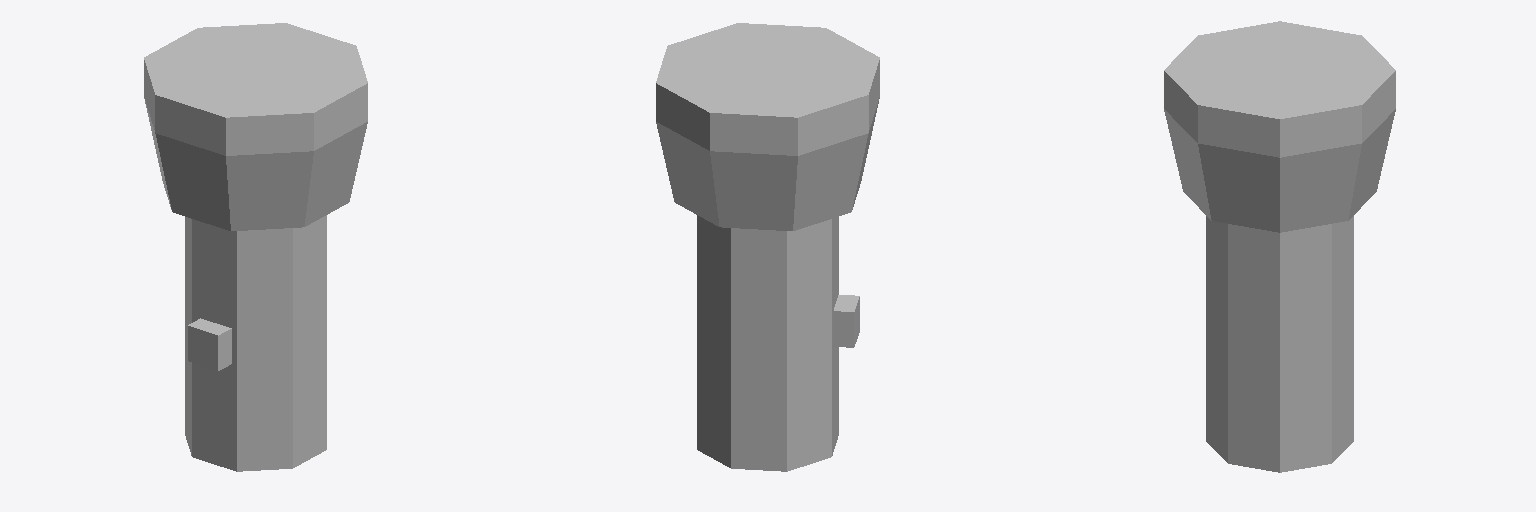
File: flashlight.obj
3 renders of one model, left to right at view 1: azimuth 30°, elevation 25°; view 2: azimuth 150°, elevation 25°; view 3: azimuth 270°, elevation 25°, orthographic.
Parts seen in each view (by area): view 1: Cylinder.001, Cylinder, Cube; view 2: Cylinder.001, Cylinder, Cube; view 3: Cylinder.001, Cylinder.
Part boxes in pixels (x1,y1,x2,y2): Cylinder.001: (144, 23, 367, 230); Cylinder: (185, 215, 326, 471); Cube: (188, 318, 231, 370); Cylinder.001: (656, 23, 879, 230); Cylinder: (697, 215, 838, 471); Cube: (833, 295, 859, 347); Cylinder.001: (1164, 21, 1395, 232); Cylinder: (1206, 216, 1353, 472).
Size of the model in its own units: 3.15 by 5.55 by 3.15.